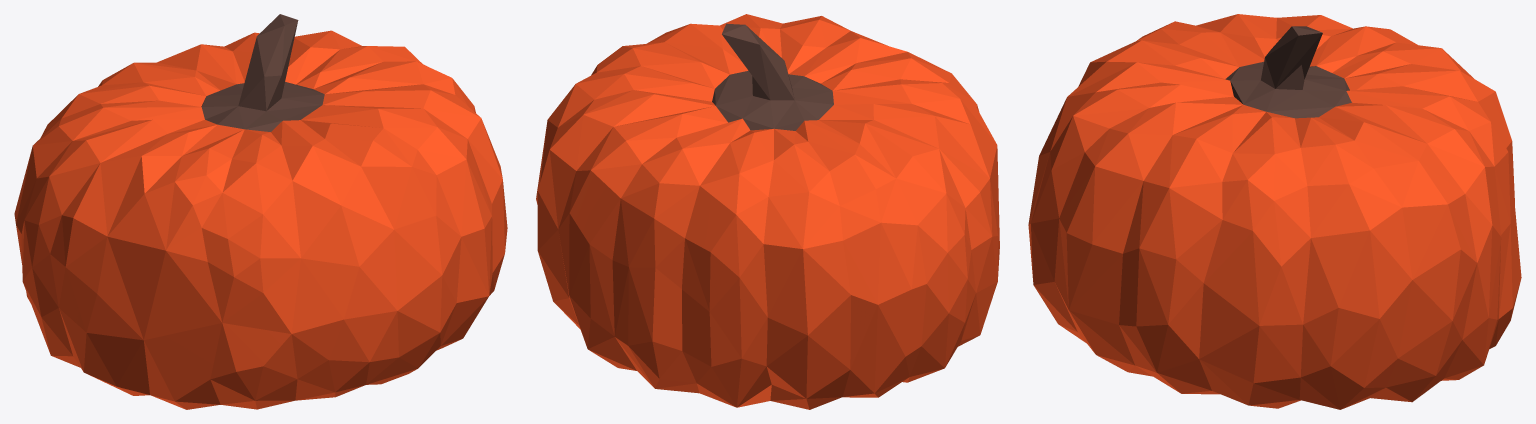
Rendered from fantasy_plant_025.fbx.
3 renders of one model, left to right at view 1: azimuth 30°, elevation 25°; view 2: azimuth 150°, elevation 25°; view 3: azimuth 270°, elevation 25°, orthographic. The views are drawn at different scales.
Visible parts, largest first — view 1: fantasy_plant.025; view 2: fantasy_plant.025; view 3: fantasy_plant.025.
Part boxes in pixels (box(x1,y1,x2,y2)): fantasy_plant.025: box(14, 14, 507, 409); fantasy_plant.025: box(536, 14, 999, 409); fantasy_plant.025: box(1028, 14, 1521, 409).
Size of the model in its own units: 150 by 107 by 141.
1 material, 1 textured.
